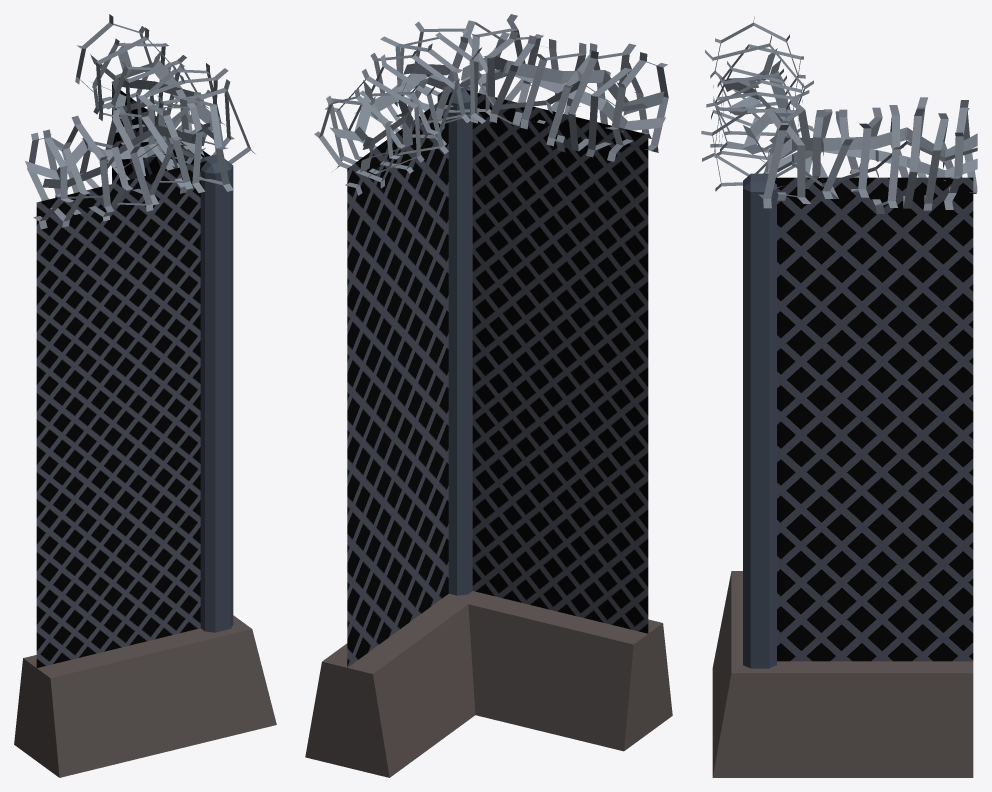
Rendered from fence_3.glb.
The picture shows the model from 3 angles, left to right: view 1: azimuth 30°, elevation 25°; view 2: azimuth 150°, elevation 25°; view 3: azimuth 270°, elevation 25°; orthographic projection. The views are drawn at different scales.
Visible parts, largest first — view 1: Cube.010; view 2: Cube.010; view 3: Cube.010.
Boxes of the visible parts, box(x1,y1,x2,y2) form: Cube.010: box(14, 14, 276, 777); Cube.010: box(305, 14, 672, 777); Cube.010: box(701, 16, 977, 777).
Bounding box in the file's own units: 2.55 × 6.78 × 2.59.
Materials: 4 (1 with a texture image).
